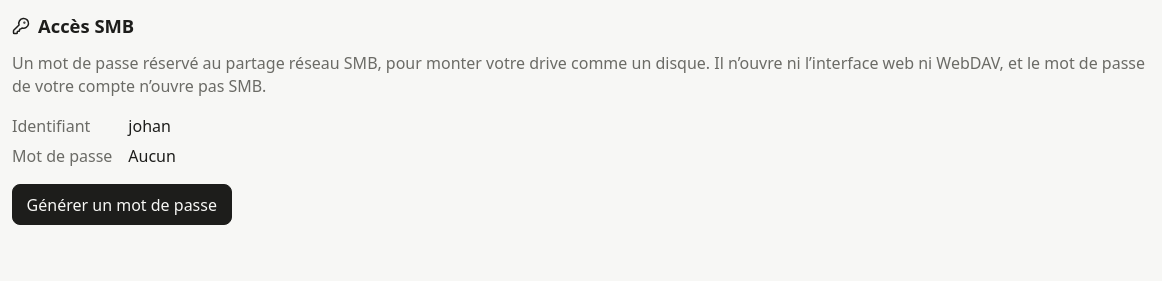
Scenario: SMBAccess › says why it failed
Click the button "Générer un mot de passe".
click(122, 205)  # box [12,184,232,225]
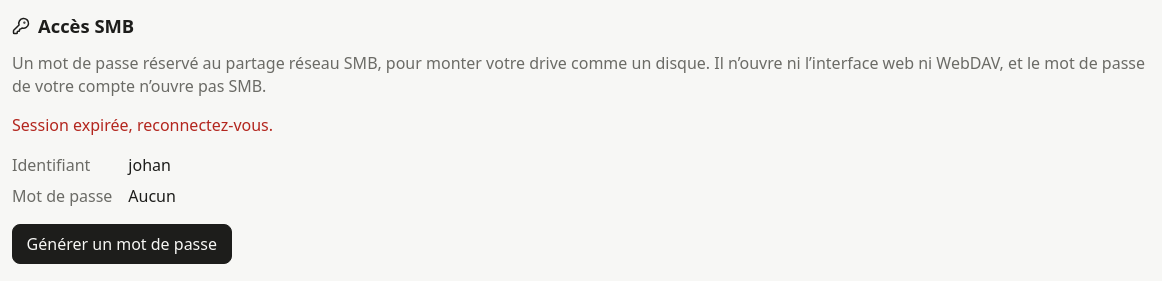
expect the message shows "Session expirée": met, box [12,114,273,136]
